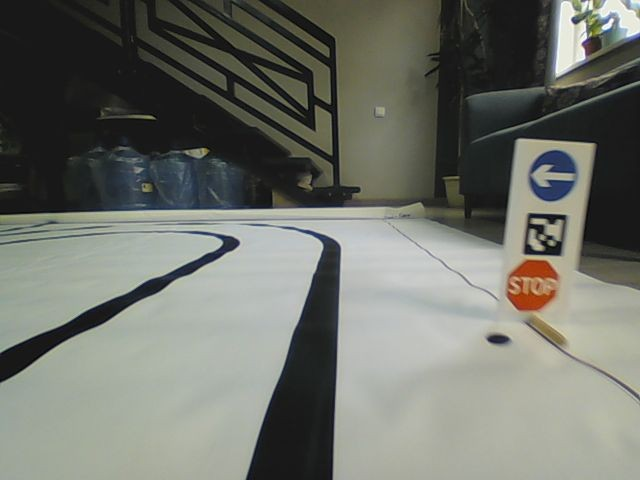Stop: (506, 257, 558, 312)
